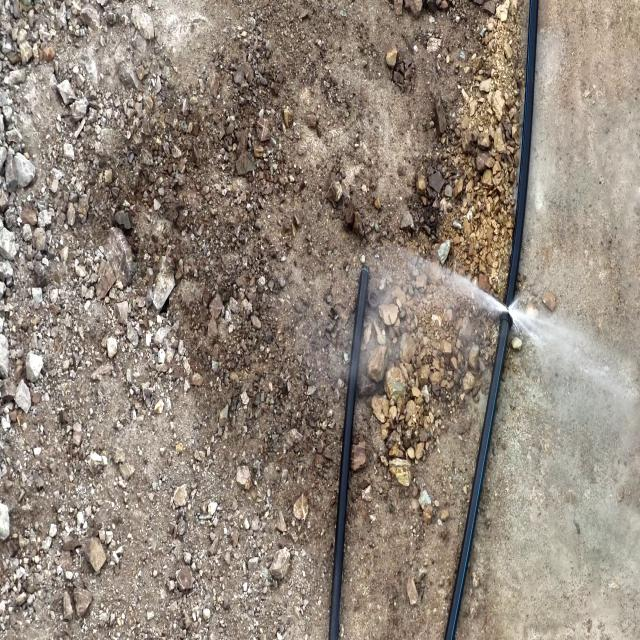leak: (409, 249, 567, 366)
